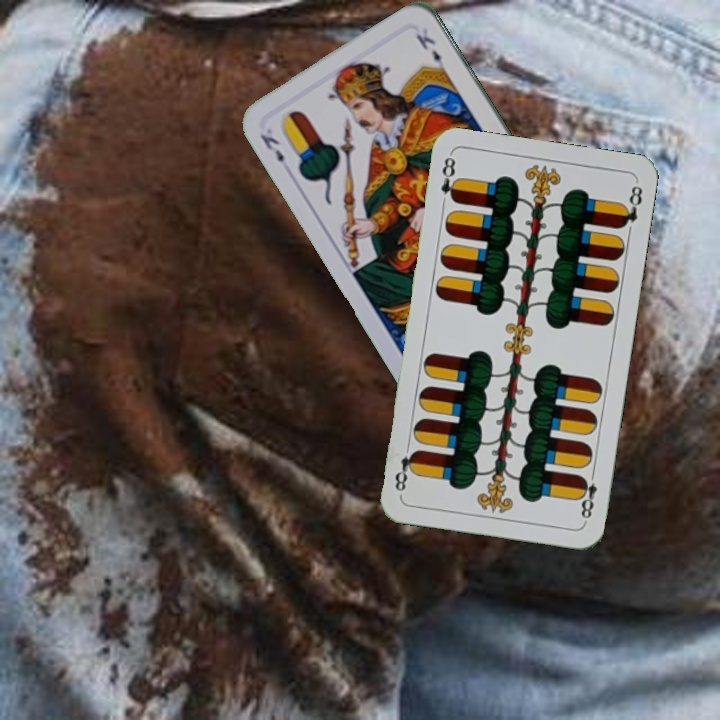E8: (574, 466, 600, 522), (437, 153, 462, 206)
EK: (255, 130, 287, 166)
